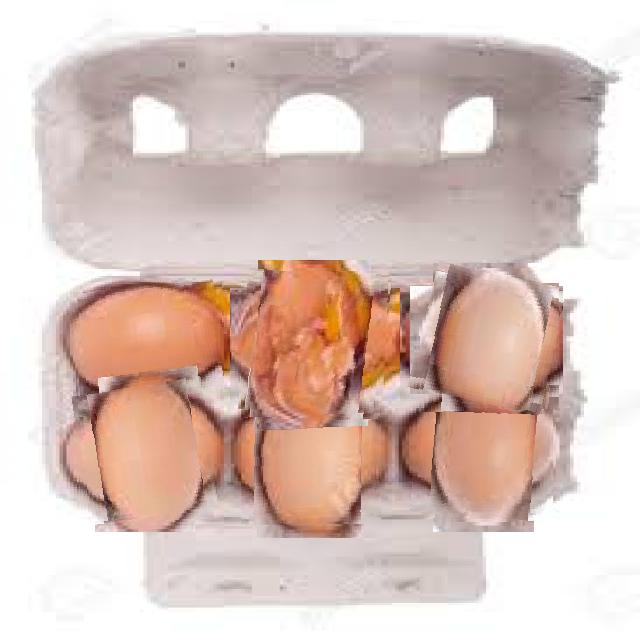biodegradable: (241, 271, 389, 418), (414, 268, 559, 412), (413, 380, 553, 519), (76, 383, 215, 521), (241, 387, 380, 525), (71, 283, 222, 397)
